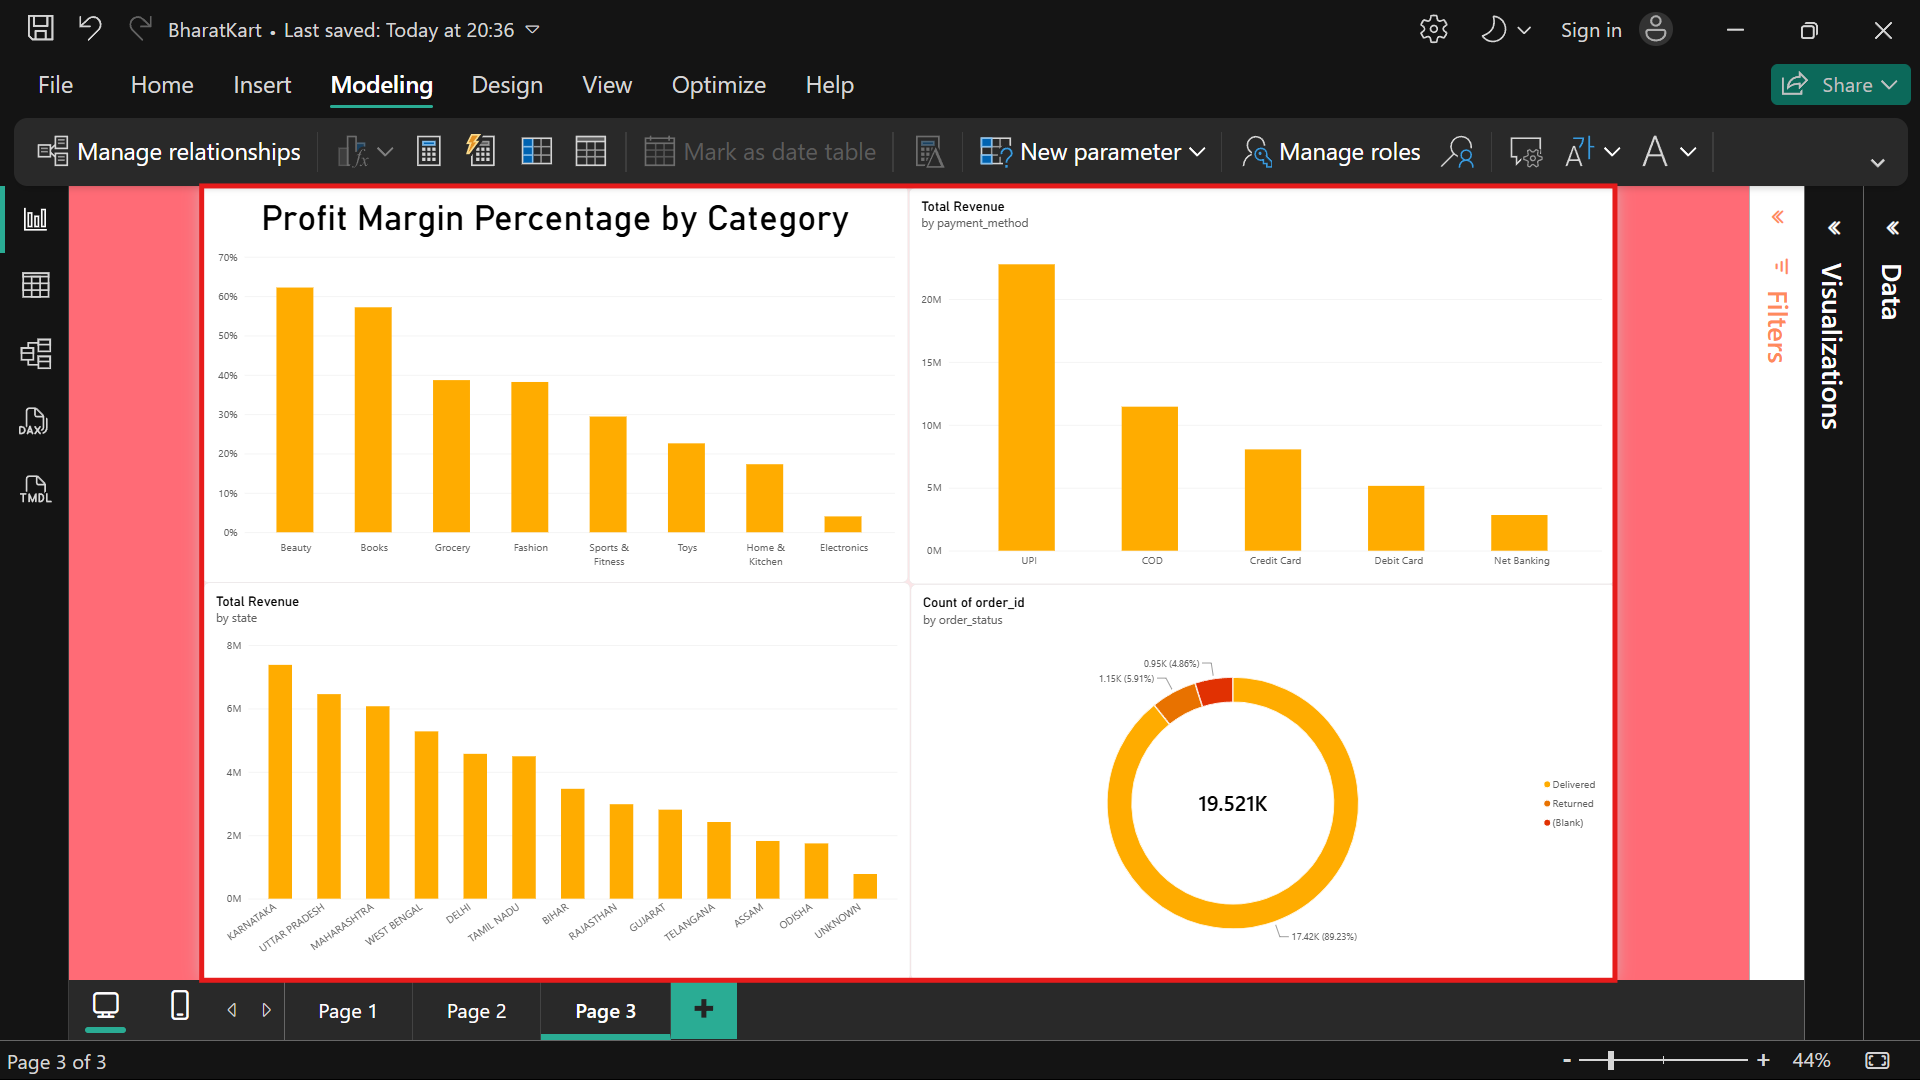

What the dashboard file says about the page in this screenshot:
{"tool":"powerbi","page":{"name":"Page 3","canvas":[1920,1080],"ordinal":2},"visuals":[{"type":"clusteredColumnChart","title":"Profit Margin Percentage by Category","fields":{"Category":["bharatkart products.category"],"Y":["bharatkart customers.Profit Margin %"]},"box":[0,0,959.1,538.7],"z":0},{"type":"clusteredColumnChart","fields":{"Category":["bharatkart orders_clean.payment_method"],"Y":["bharatkart order_items_clean.Total Revenue"]},"box":[961.8,2.6,959.1,538.7],"z":1000},{"type":"clusteredColumnChart","fields":{"Category":["bharatkart customers.state"],"Y":["bharatkart order_items_clean.Total Revenue"]},"box":[3,538,960,540.9],"z":2000},{"type":"donutChart","fields":{"Category":["bharatkart orders_clean.order_status"],"Y":["CountNonNull(bharatkart order_items_clean.order_id)"]},"box":[963,540.9,957,538],"z":3000}]}

Visuals, with their boxes on the page's 1920x1080 design canvas (x1, y1, x2, y2). These are canvas units, not pixel positions in the 1920x1080 screenshot, which may show the page scaled, cropped or inside an application window:
"Profit Margin Percentage by Category" clusteredColumnChart: <region>0, 0, 959, 539</region>
clusteredColumnChart - bharatkart orders_clean.payment_method x bharatkart order_items_clean.Total Revenue: <region>962, 3, 1921, 541</region>
clusteredColumnChart - bharatkart customers.state x bharatkart order_items_clean.Total Revenue: <region>3, 538, 963, 1079</region>
donutChart - bharatkart orders_clean.order_status x CountNonNull(bharatkart order_items_clean.order_id): <region>963, 541, 1920, 1079</region>
